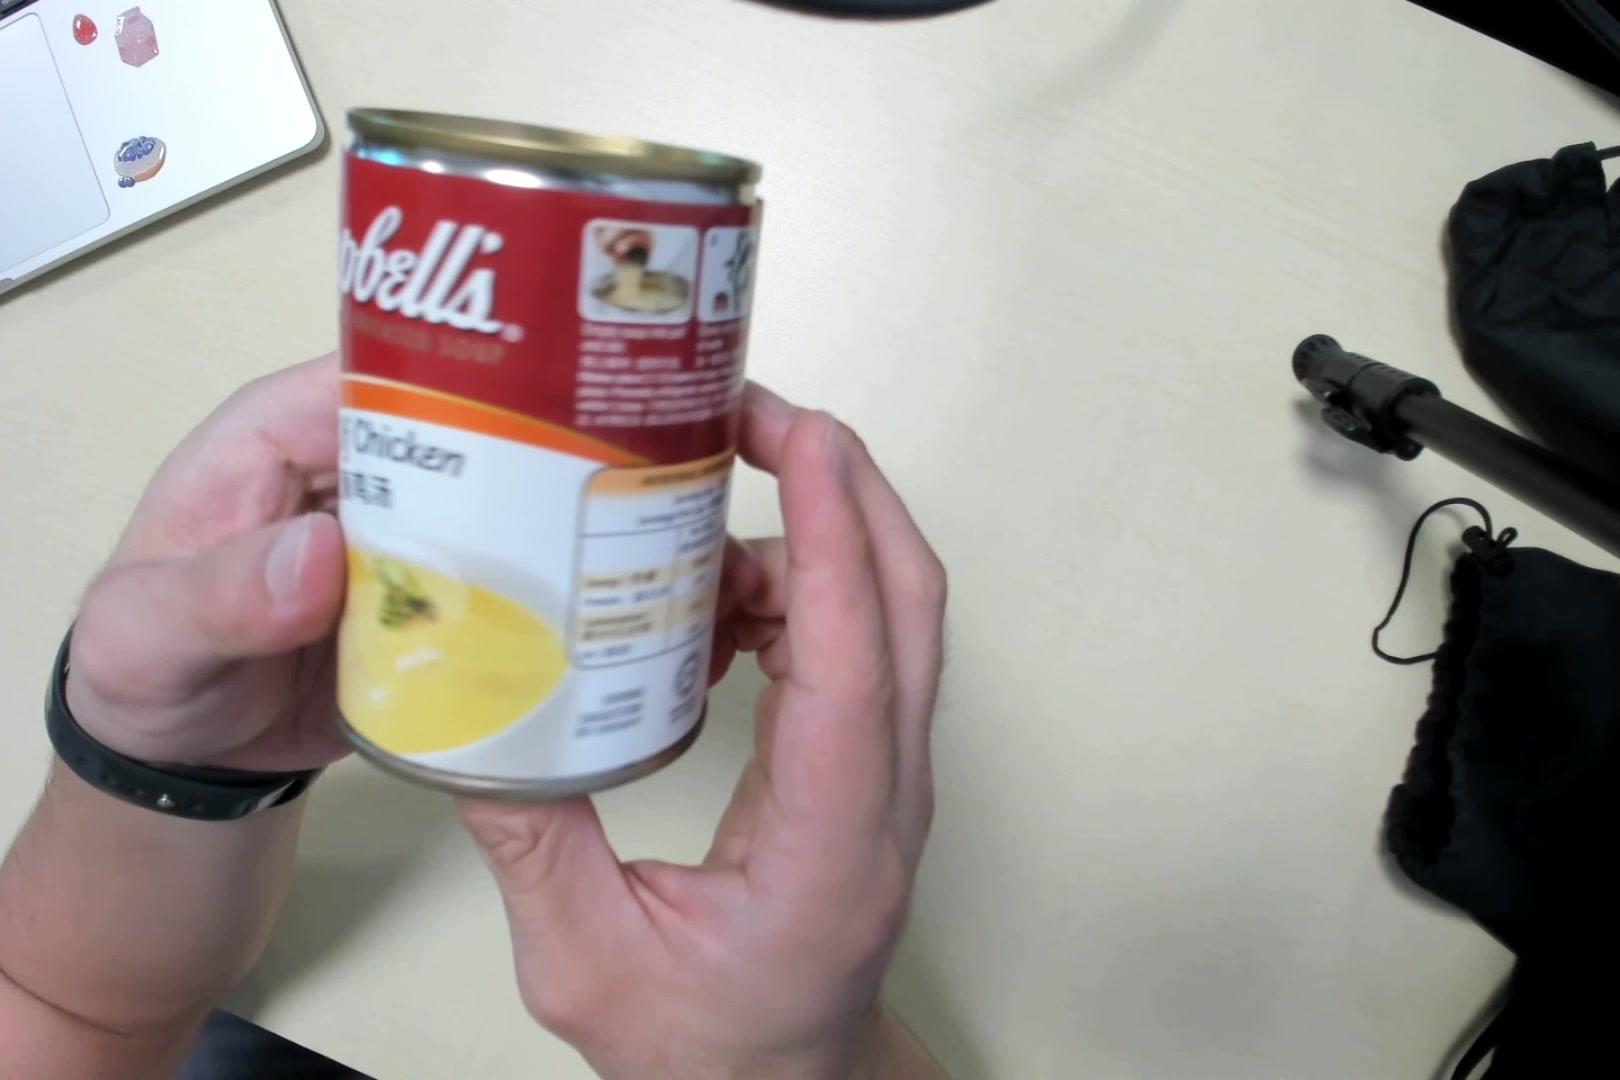CannedSoup_300-399g_Halal_NonHealthy: (336, 115, 730, 796)
